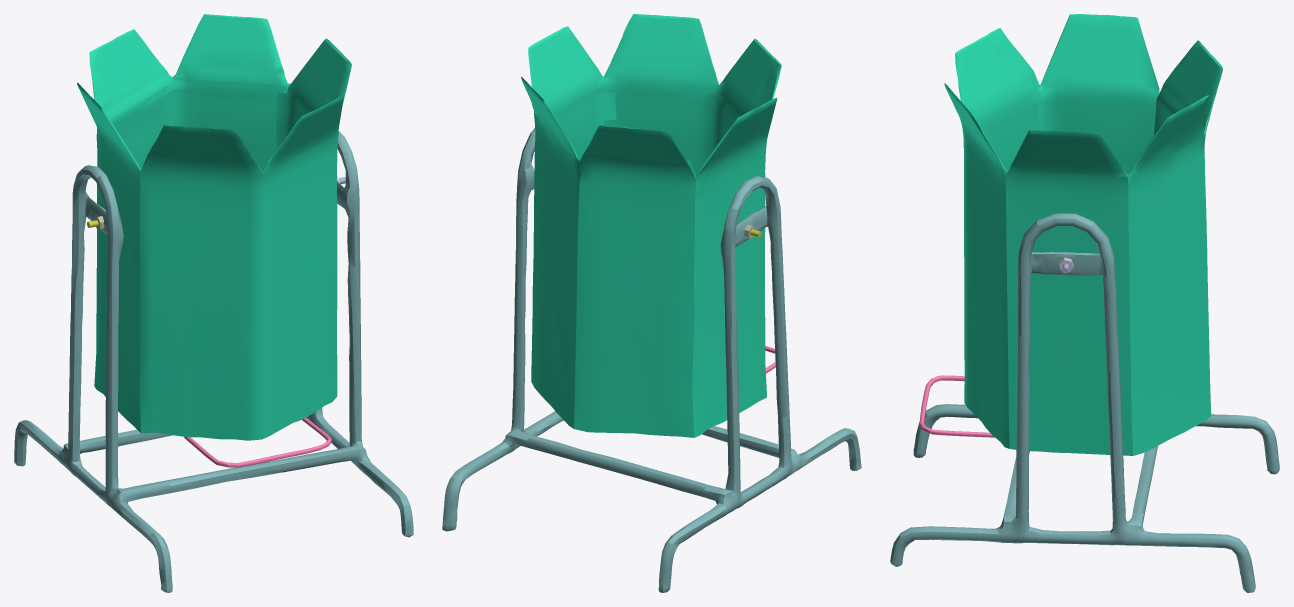
3 views of the same model, side by side, from view 1: azimuth 30°, elevation 25°; view 2: azimuth 150°, elevation 25°; view 3: azimuth 270°, elevation 25° (orthographic). The views are drawn at different scales.
Visible parts, largest first — view 1: split_parent_6, split_parent_0, split_parent_1; view 2: split_parent_6, split_parent_0; view 3: split_parent_6, split_parent_0, split_parent_1.
Boxes of the visible parts, x1,y1,x2,y2 form: split_parent_6: (77,14,351,440); split_parent_0: (14,131,413,592); split_parent_1: (184,417,331,467); split_parent_6: (521,14,781,437); split_parent_0: (442,128,861,592); split_parent_6: (944,14,1222,455); split_parent_0: (890,213,1279,592); split_parent_1: (919,375,994,437).
Bounding box in the file's own units: 0.6302 × 1 × 0.7726.
